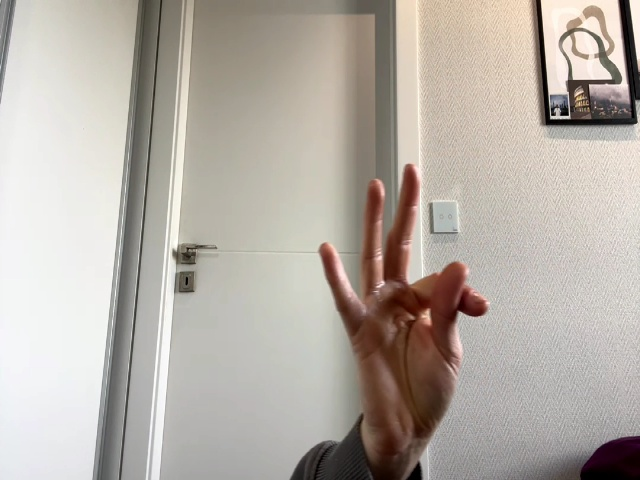T: (320, 163, 489, 425)
